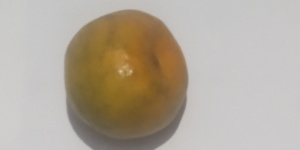BAD: (65, 9, 186, 142)
